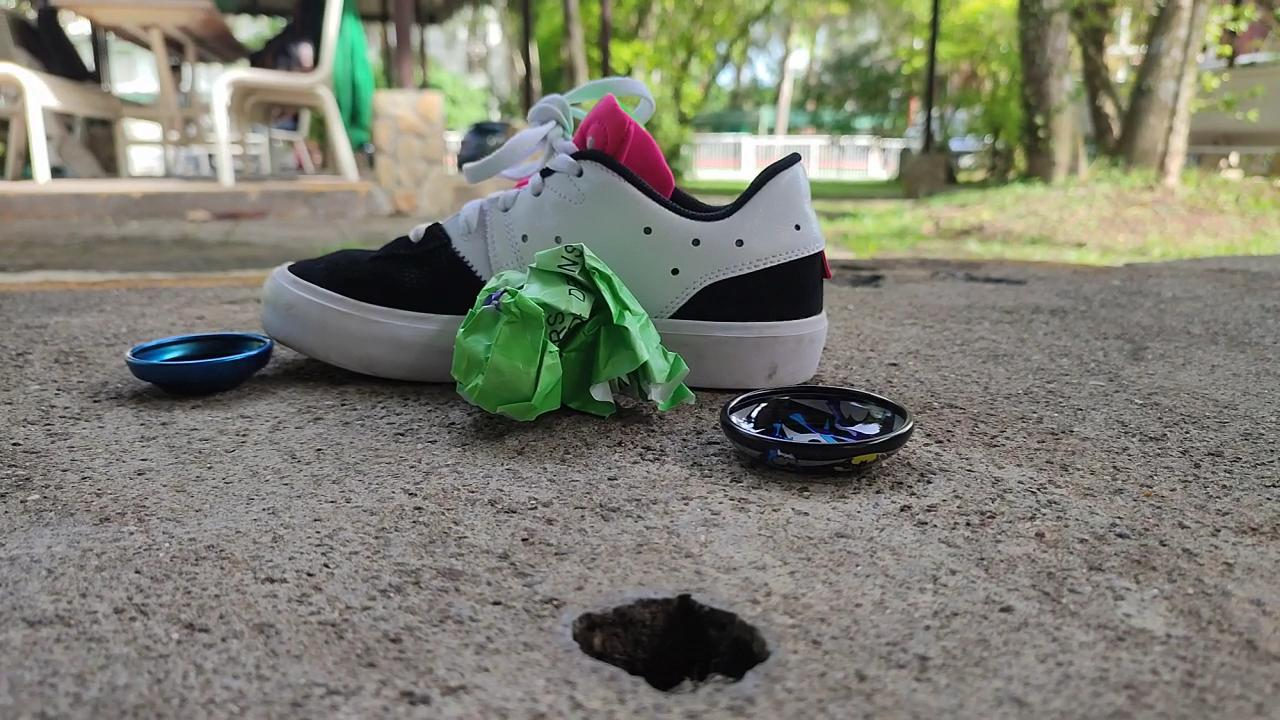Paper: (421, 222, 700, 443)
